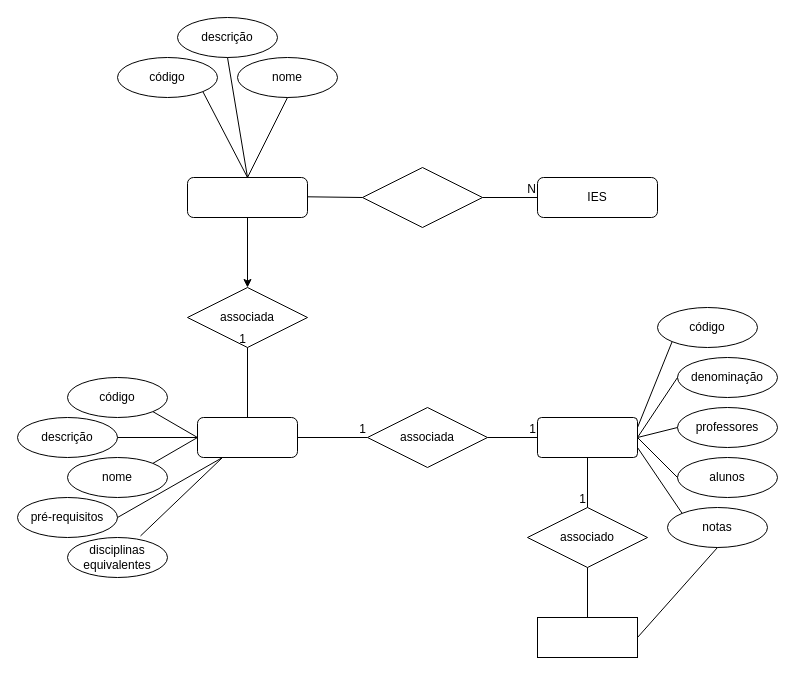
This 795x675 diagram has some shape labels left out. Each missing label, with the centre of its shape:
"conjunto de disciplinas" belongs at point 587,637.
"curso" belongs at point 587,437.
"departamento" belongs at point 247,197.
"disciplina" belongs at point 247,437.
"formado" belongs at point 422,197.
